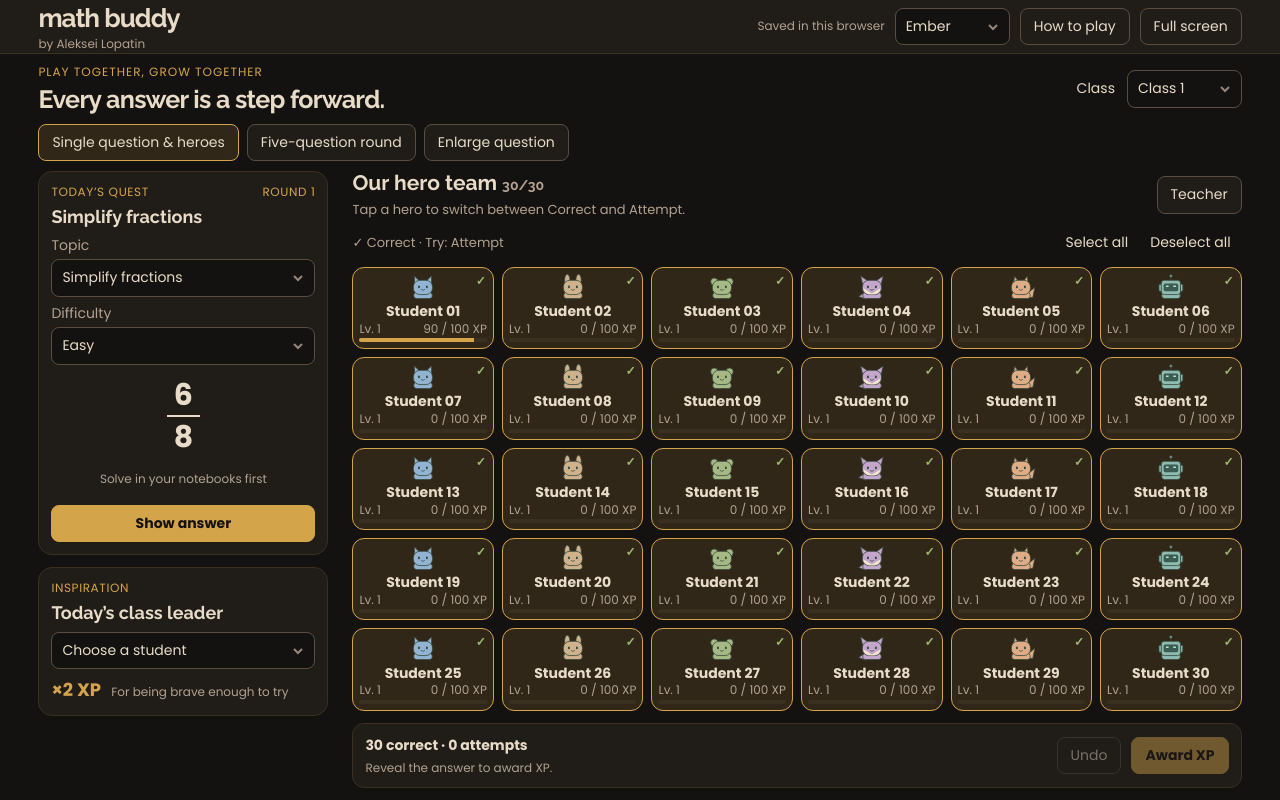
Test case: marks attempts, awards leader XP once and undoes a level up
This screenshot has width=1280, height=800.
Later steps or results of the test are not shown.
Select "Student 01 · turns: 0" in the dropdown named "Class leader" at [183, 651], box [51,632,315,670]
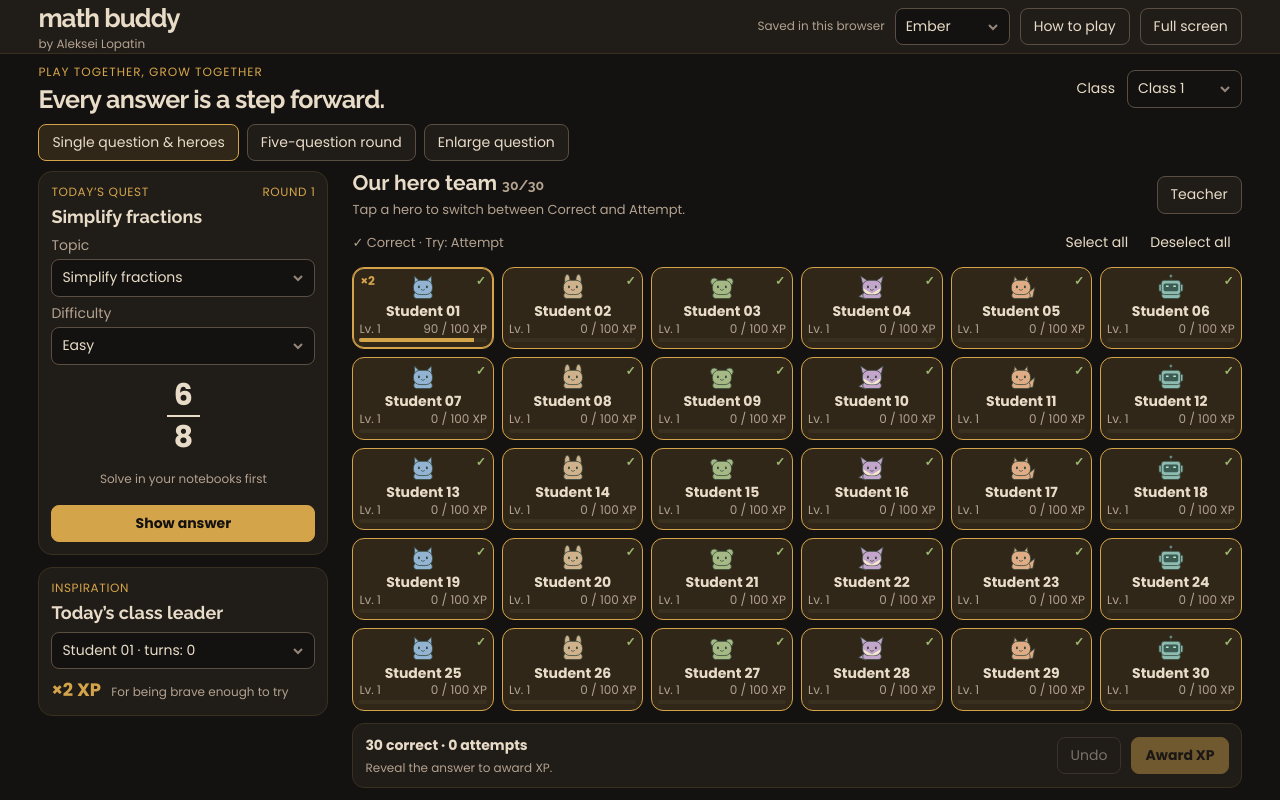
Click the button with aria-label "Student 02: Correct" at [573, 308], box [502,267,643,349]
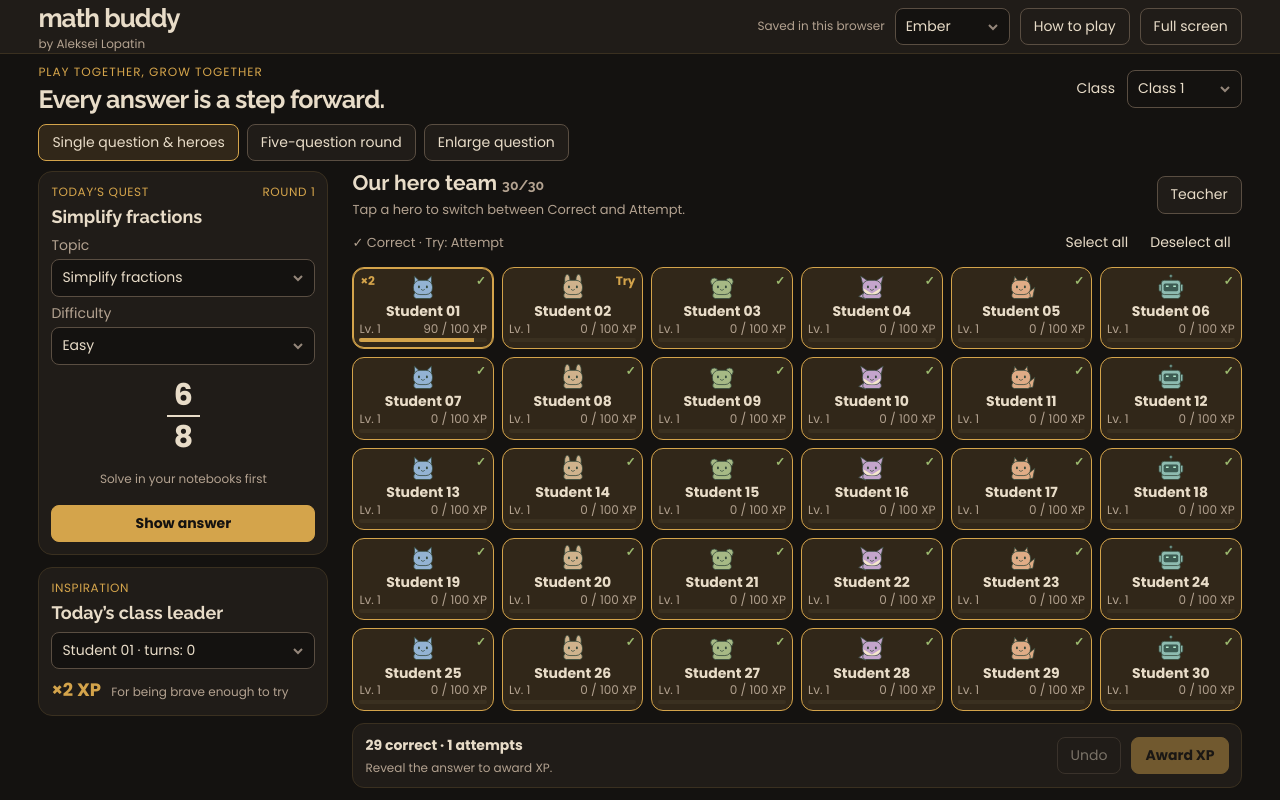
Click the button "Show answer" at [183, 524], box [51,505,315,542]
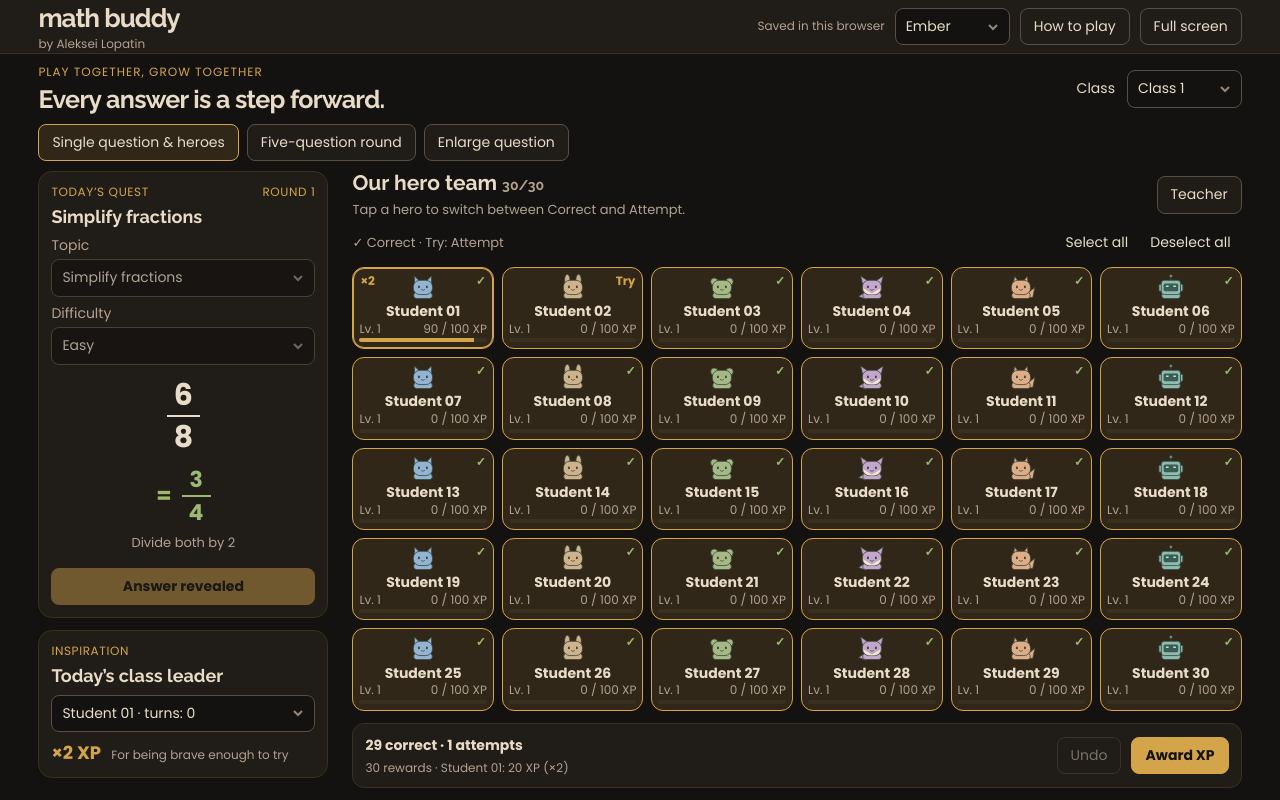
Click the button "Award XP" at [1180, 755], box [1131,737,1229,774]
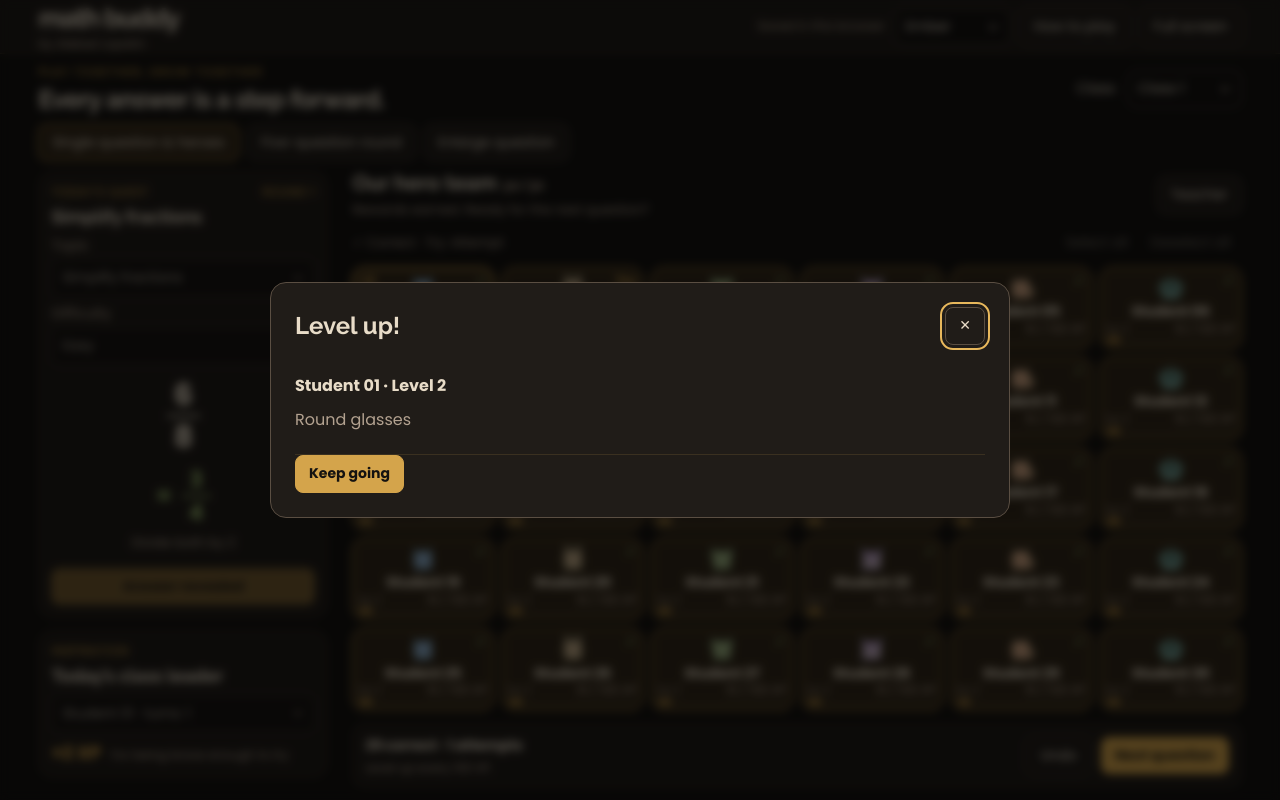
Check: the text "Round glasses" is shown, box [295,408,411,431]
